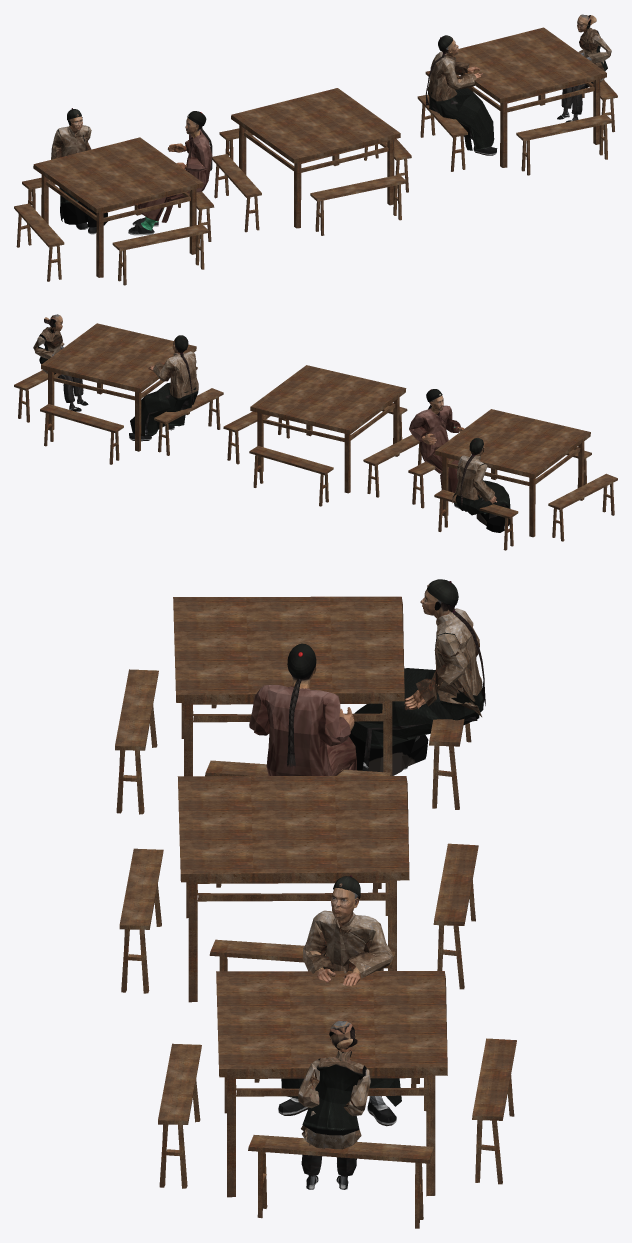
3 renders of one model, top to bottom at view 1: azimuth 30°, elevation 25°; view 2: azimuth 150°, elevation 25°; view 3: azimuth 270°, elevation 25°, orthographic. The views are drawn at different scales.
Parts seen in each view (by area): view 1: qingmo_obj_053 [3850729], qingmo_obj_048 [3850732], qingmo_obj_049 [3850726], qingmo_obj_050 [3850723], qingmo_obj_054 [3850738], qingmo_obj_051 [3850735], qingmo_obj_055 [3850741]; view 2: qingmo_obj_053 [3850729], qingmo_obj_048 [3850732], qingmo_obj_049 [3850726], qingmo_obj_054 [3850738], qingmo_obj_050 [3850723], qingmo_obj_055 [3850741]; view 3: qingmo_obj_053 [3850729], qingmo_obj_049 [3850726], qingmo_obj_048 [3850732], qingmo_obj_054 [3850738], qingmo_obj_050 [3850723], qingmo_obj_055 [3850741].
Part boxes in pixels (x1,y1,x2,y2): qingmo_obj_053 [3850729]: [14, 27, 617, 285]; qingmo_obj_048 [3850732]: [425, 35, 497, 155]; qingmo_obj_049 [3850726]: [51, 108, 107, 234]; qingmo_obj_050 [3850723]: [557, 14, 611, 122]; qingmo_obj_054 [3850738]: [137, 129, 212, 222]; qingmo_obj_051 [3850735]: [128, 143, 202, 235]; qingmo_obj_055 [3850741]: [185, 111, 212, 170]; qingmo_obj_053 [3850729]: [14, 323, 617, 550]; qingmo_obj_048 [3850732]: [129, 335, 198, 441]; qingmo_obj_049 [3850726]: [452, 437, 510, 532]; qingmo_obj_054 [3850738]: [409, 405, 460, 492]; qingmo_obj_050 [3850723]: [33, 314, 88, 411]; qingmo_obj_055 [3850741]: [426, 389, 443, 414]; qingmo_obj_053 [3850729]: [115, 596, 516, 1228]; qingmo_obj_049 [3850726]: [349, 579, 485, 775]; qingmo_obj_048 [3850732]: [278, 875, 401, 1126]; qingmo_obj_054 [3850738]: [249, 685, 356, 775]; qingmo_obj_050 [3850723]: [298, 1020, 370, 1189]; qingmo_obj_055 [3850741]: [287, 643, 316, 767].
Size of the model in its own units: 81.8 by 25.98 by 15.2.
Materials: 8 (8 with a texture image).
